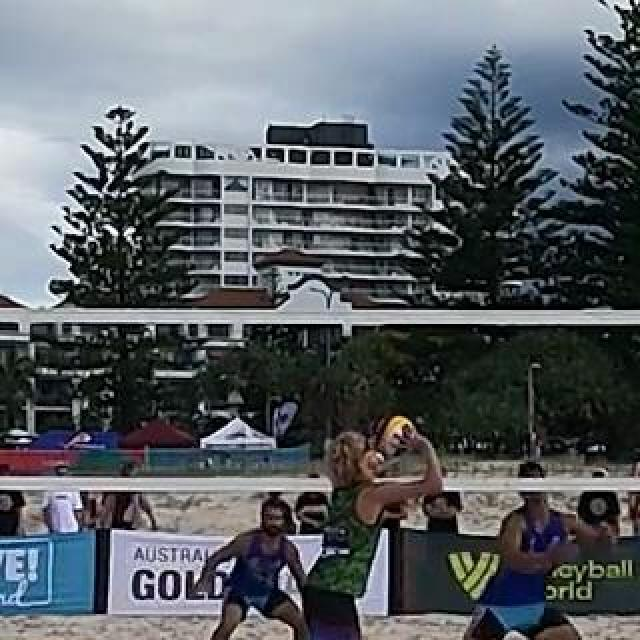volleyball: (376, 414, 416, 456)
